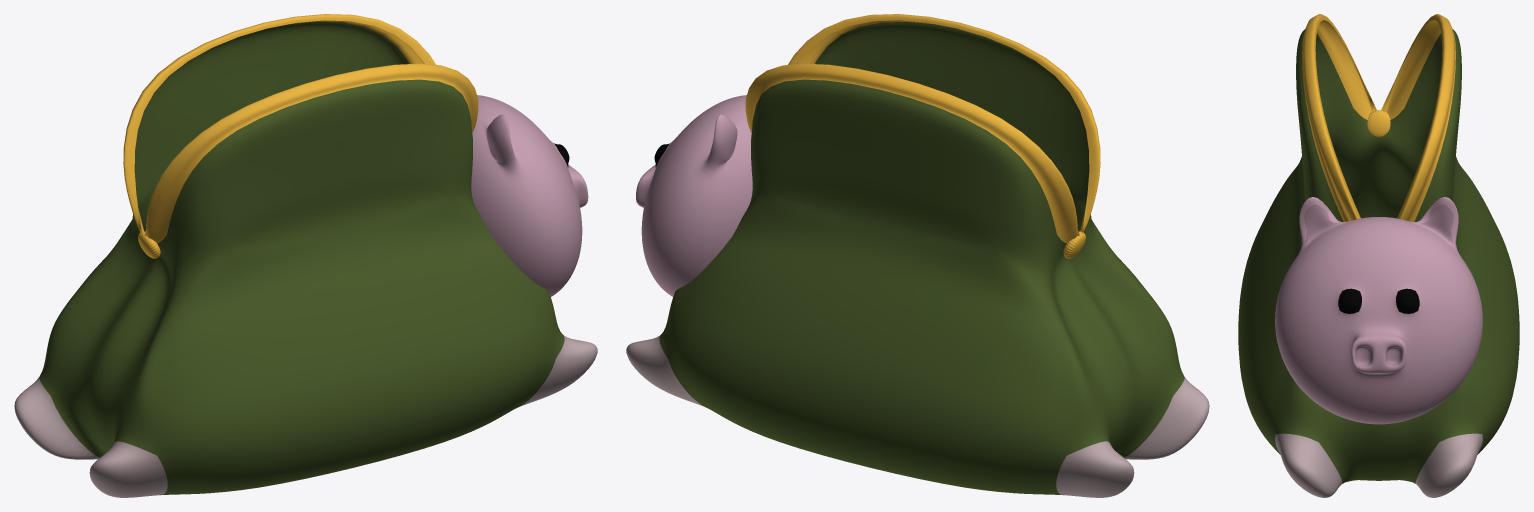
File: Item.fbx
3 renders of one model, left to right at view 1: azimuth 30°, elevation 25°; view 2: azimuth 150°, elevation 25°; view 3: azimuth 270°, elevation 25°, orthographic. The views are drawn at different scales.
Parts seen in each view (by area): view 1: Cube, Sphere; view 2: Cube, Sphere; view 3: Cube, Sphere, Cylinder.001.
Boxes of the visible parts, x1,y1,x2,y2 form: Cube: [14, 14, 597, 497]; Sphere: [471, 95, 588, 296]; Cube: [626, 14, 1209, 497]; Sphere: [636, 95, 752, 296]; Cube: [1238, 14, 1519, 497]; Sphere: [1275, 197, 1482, 424]; Cylinder.001: [1367, 110, 1390, 136].
Bounding box in the file's own units: 451 × 324 × 225.
